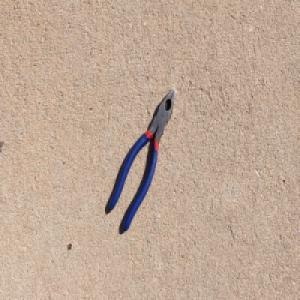Pliers: (107, 86, 177, 234)
